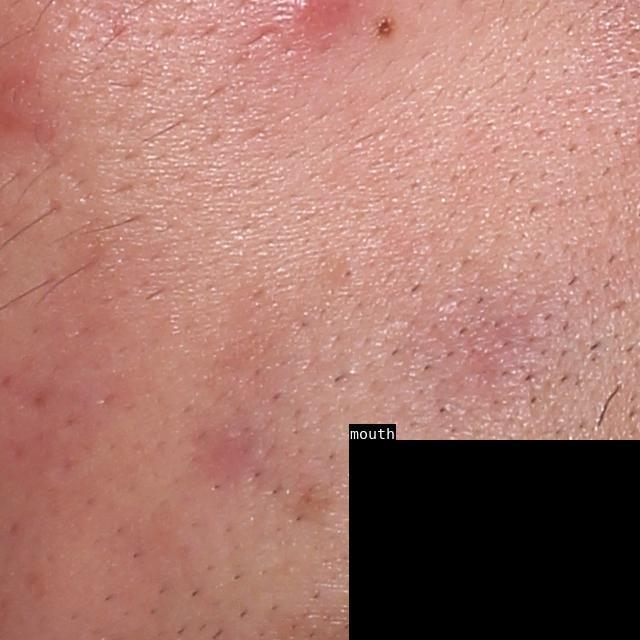comedo: (331, 256, 364, 285)
nevus: (374, 14, 399, 40)
